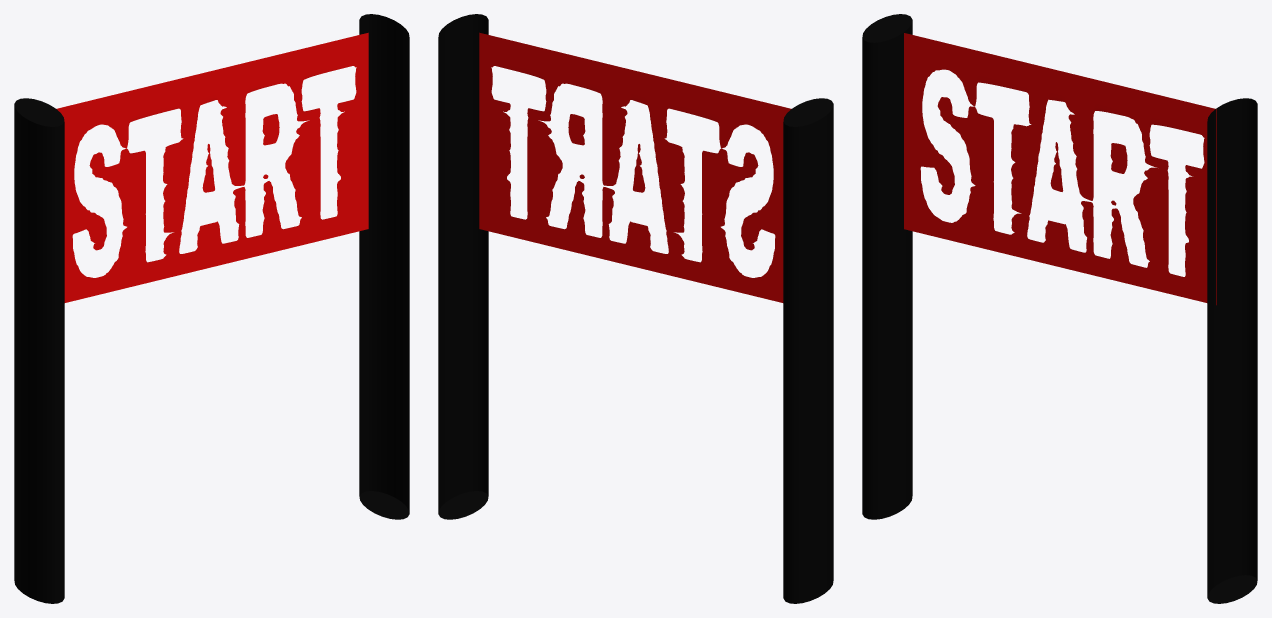
The model's file is start.fbx.
3 views of the same model, side by side, from view 1: azimuth 30°, elevation 25°; view 2: azimuth 150°, elevation 25°; view 3: azimuth 330°, elevation 25° (orthographic).
Visible parts, largest first — view 1: pPlane1, pCylinder1, pasted__pCylinder1; view 2: pPlane1, pCylinder1, pasted__pCylinder1; view 3: pPlane1, pasted__pCylinder1, pCylinder1.
Boxes of the visible parts, x1,y1,x2,y2 form: pPlane1: (56,32,368,302); pCylinder1: (14,98,64,603); pasted__pCylinder1: (359,14,409,519); pPlane1: (479,32,791,302); pCylinder1: (783,98,833,603); pasted__pCylinder1: (438,14,488,519); pPlane1: (904,33,1216,305); pasted__pCylinder1: (1207,98,1257,603); pCylinder1: (862,14,912,519).
Bounding box in the file's own units: 11.49 × 13.86 × 2.
Materials: 3 (1 with a texture image).
